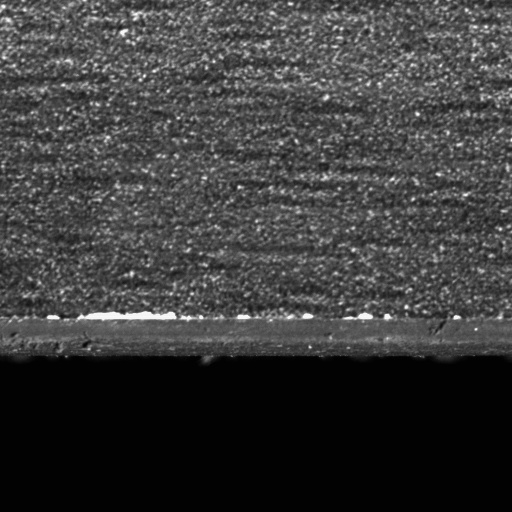huashang: (78, 309, 177, 322)
